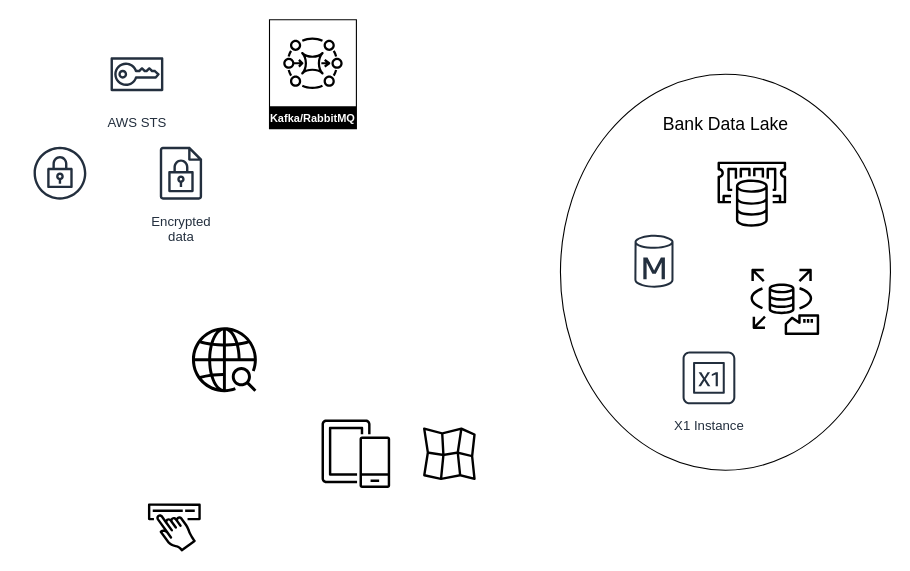
Image size: 910x571. Some labels were removed from this diagram. Here are the shapes that lost their labels. From the top down, the centre of each, then its label:
(x=59, y=172): VPN Gateway
(x=653, y=260): DB instance
